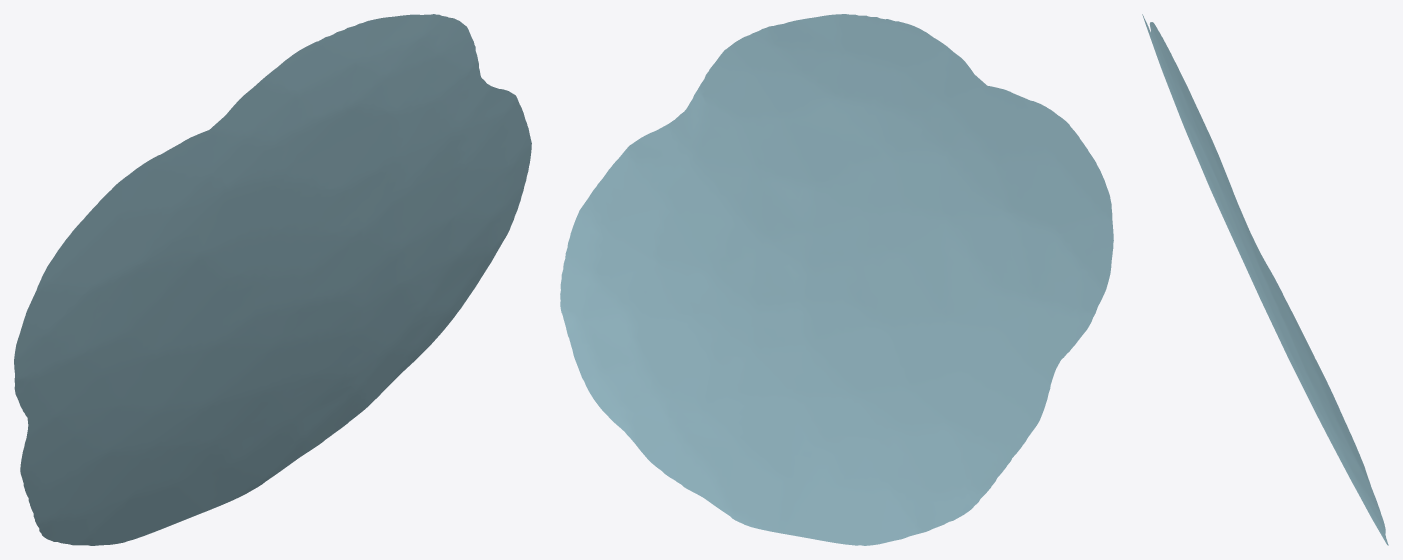
File: tumorProjExp.obj
3 renders of one model, left to right at view 1: azimuth 30°, elevation 25°; view 2: azimuth 150°, elevation 25°; view 3: azimuth 270°, elevation 25°, orthographic. The views are drawn at different scales.
Parts seen in each view (by area): view 1: grp1; view 2: grp1; view 3: grp1.
Part boxes in pixels (x1,y1,x2,y2): grp1: [14, 14, 531, 545]; grp1: [560, 14, 1113, 545]; grp1: [1142, 14, 1388, 545].
Bounding box in the file's own units: 0.0312 × 0.0282 × 0.0128.
